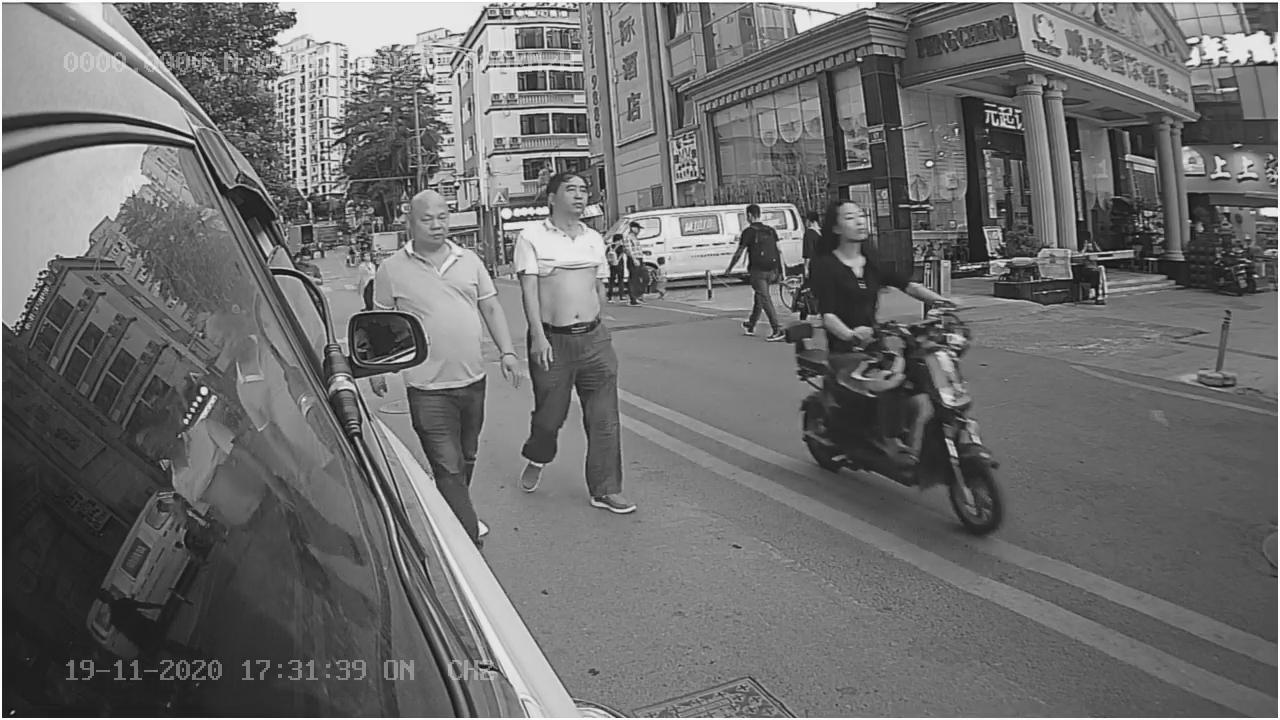person: (510, 169, 632, 502), (806, 204, 912, 323)
